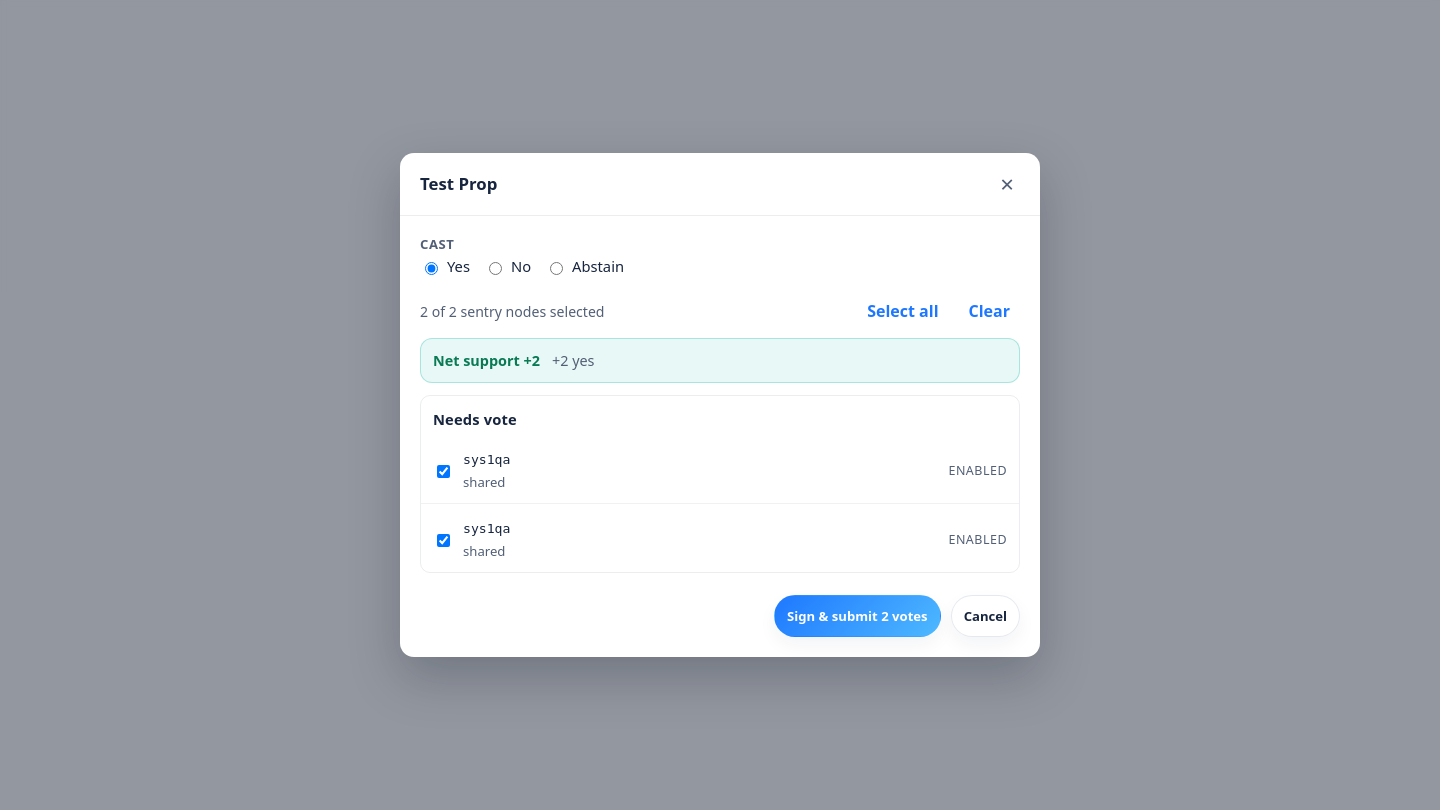
Scenario: ProposalVoteModal — happy-path voting › two masternodes sharing one voting key are selectable independently
This screenshot has width=1440, height=810.
Check: the element with test id "vote-modal-list" is shown, box [420, 395, 1020, 573]
Check: the number of list items with test id "vote-modal-row" is 2, box [421, 439, 1019, 504]; [421, 508, 1019, 572]
// Deselecting one must leave the other selected.
Click the 2nd checkbox labelled "sys1qa shared ENABLED".
click(444, 540)  # box [437, 534, 450, 547]
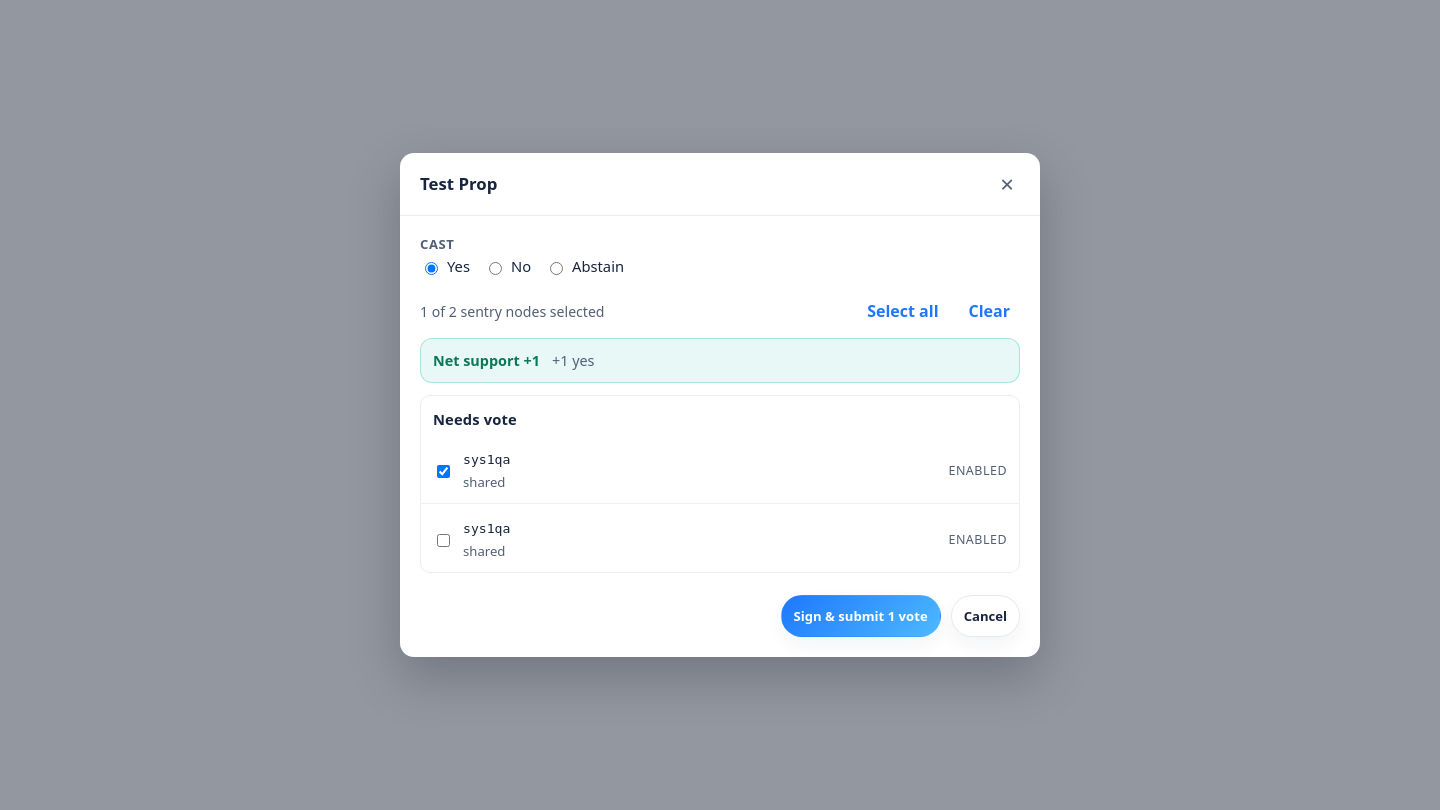
Check: the button with test id "vote-modal-submit" shows "1 vote"
Click the button with test id "vote-modal-submit".
click(861, 616)  # box [780, 595, 941, 637]
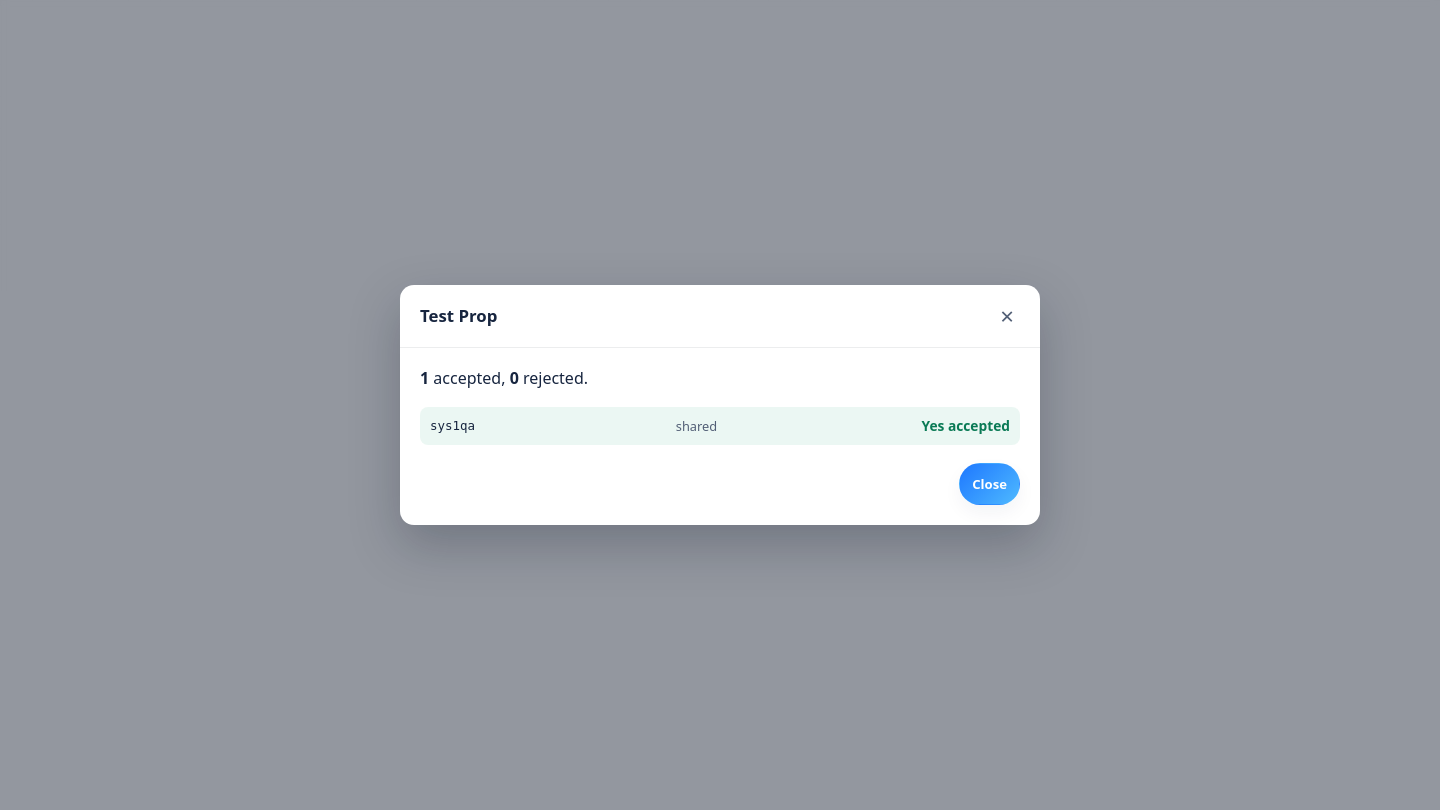
Check: the element with test id "vote-modal-done" is shown, box [420, 366, 1020, 505]
